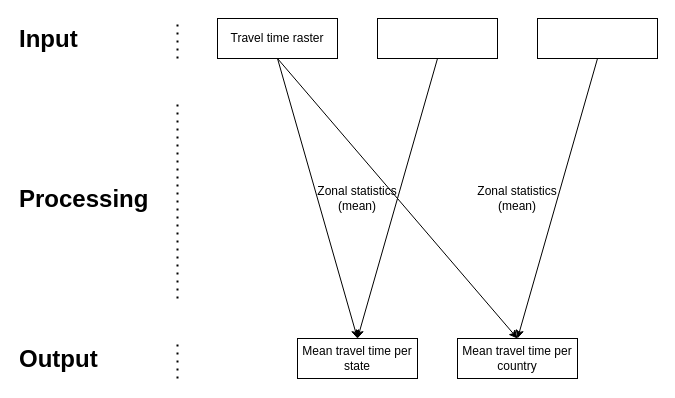
Image size: 675x398. Some labels were removed from this diagram. Each missing label, with the box of its shape:
Countries: (536, 18, 658, 58)
States: (376, 18, 498, 58)
